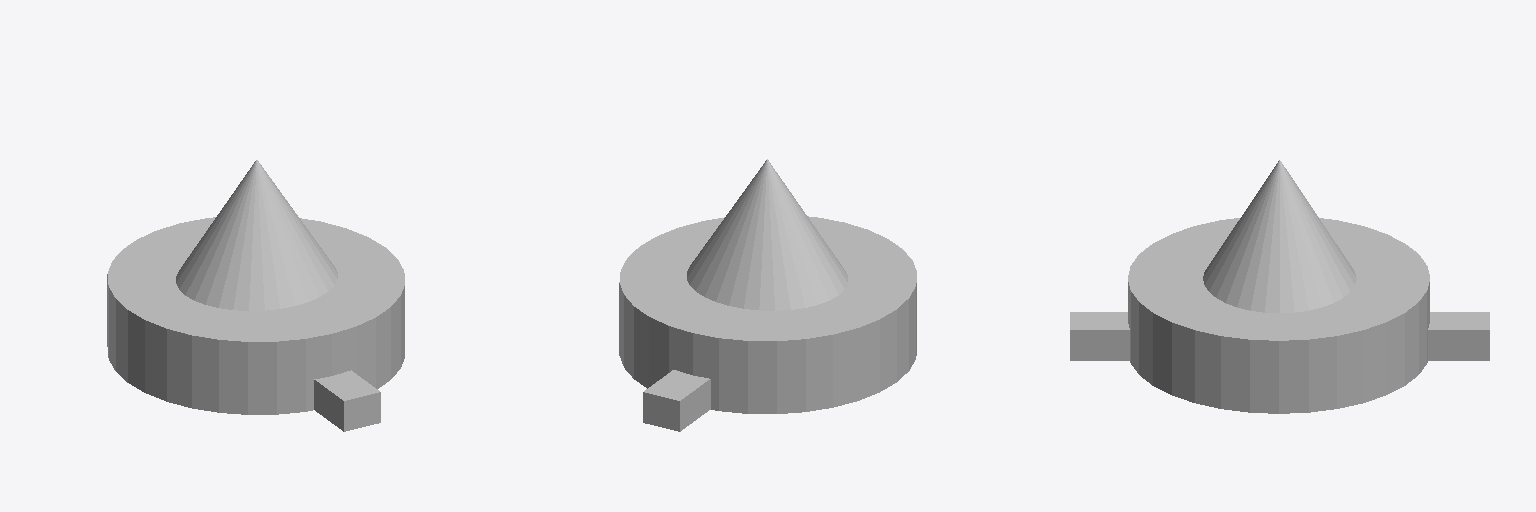
Rendered from spinner.obj.
3 renders of one model, left to right at view 1: azimuth 30°, elevation 25°; view 2: azimuth 150°, elevation 25°; view 3: azimuth 270°, elevation 25°, orthographic.
Visible parts, largest first — view 1: Cylinder, Cone, Cube_Cube.001; view 2: Cylinder, Cone, Cube_Cube.001; view 3: Cylinder, Cone, Cube_Cube.001.
Boxes of the visible parts, x1,y1,x2,y2 form: Cylinder: [107, 217, 404, 414]; Cone: [176, 160, 337, 310]; Cube_Cube.001: [314, 370, 380, 431]; Cylinder: [619, 216, 916, 413]; Cone: [687, 159, 847, 310]; Cube_Cube.001: [643, 370, 710, 431]; Cylinder: [1128, 218, 1429, 413]; Cone: [1203, 160, 1356, 312]; Cube_Cube.001: [1070, 312, 1489, 360].
Bounding box in the file's own units: 2.6 × 1.87 × 3.66.